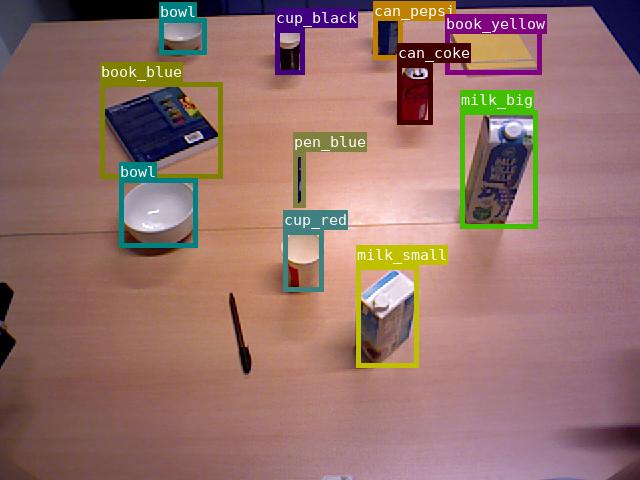book_blue: (100, 82, 222, 178)
book_yellow: (445, 14, 541, 74)
bowl: (119, 178, 197, 247), (159, 18, 206, 54)
can_coke: (397, 63, 432, 124)
can_pepsi: (373, 1, 402, 59)
cup_black: (275, 28, 304, 74)
cup_red: (283, 230, 323, 291)
milk_big: (460, 110, 537, 228)
milk_small: (356, 265, 418, 367)
pen_blue: (293, 152, 305, 207)
